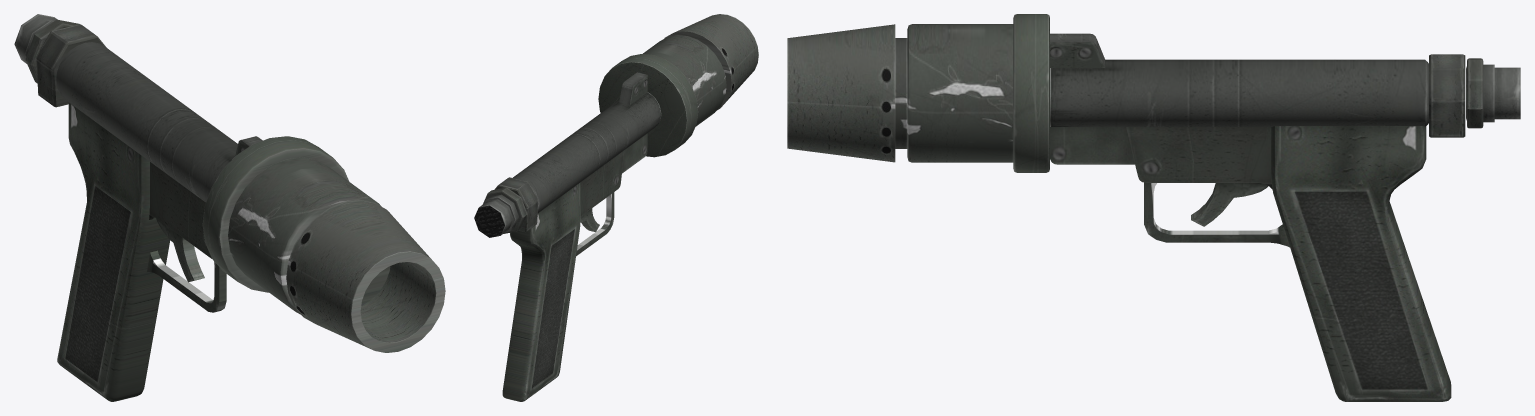
File: VFlameThrower.fbx
3 renders of one model, left to right at view 1: azimuth 30°, elevation 25°; view 2: azimuth 150°, elevation 25°; view 3: azimuth 270°, elevation 25°, orthographic. The views are drawn at different scales.
Parts seen in each view (by area): view 1: Flamethrower1.001; view 2: Flamethrower1.001; view 3: Flamethrower1.001.
Boxes of the visible parts, x1,y1,x2,y2 form: Flamethrower1.001: (14, 14, 445, 401); Flamethrower1.001: (474, 14, 758, 401); Flamethrower1.001: (787, 14, 1520, 401).
Bounding box in the file's own units: 6.48 × 16.78 × 29.79.
Materials: 3 (3 with a texture image).
